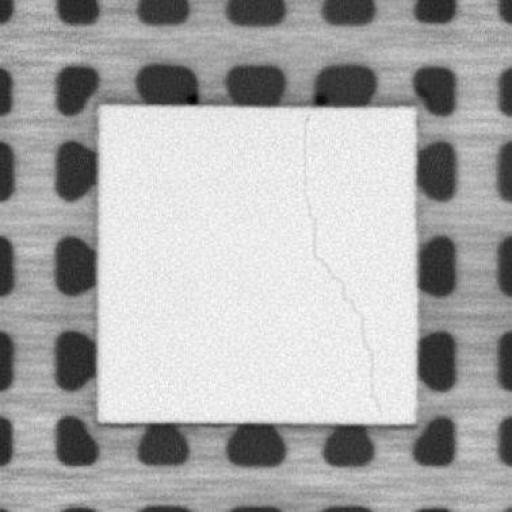DIE_CRACK: (295, 114, 381, 410)
